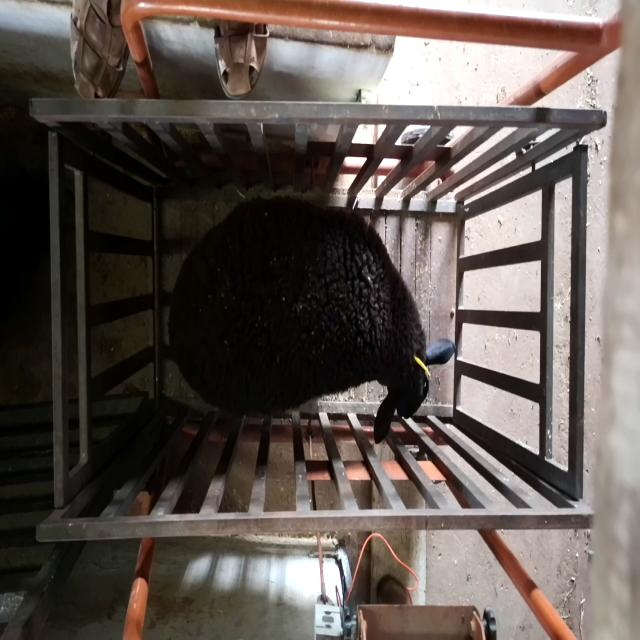sheep: (168, 194, 456, 445)
